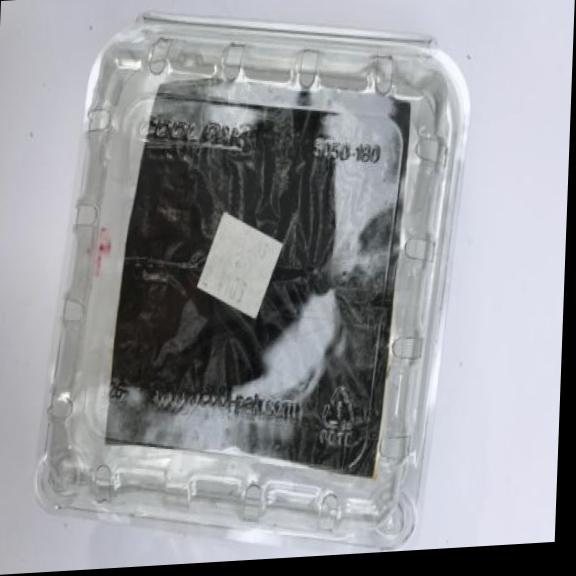Plastik: (28, 0, 482, 573)
